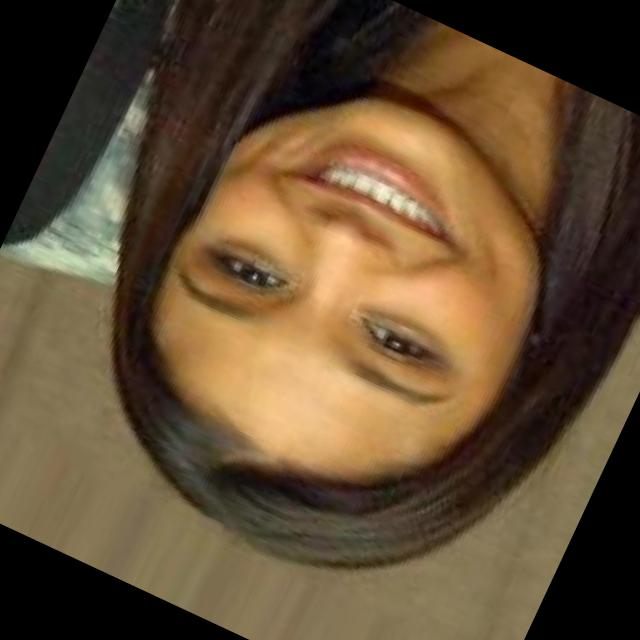bareface: (78, 78, 582, 613)
